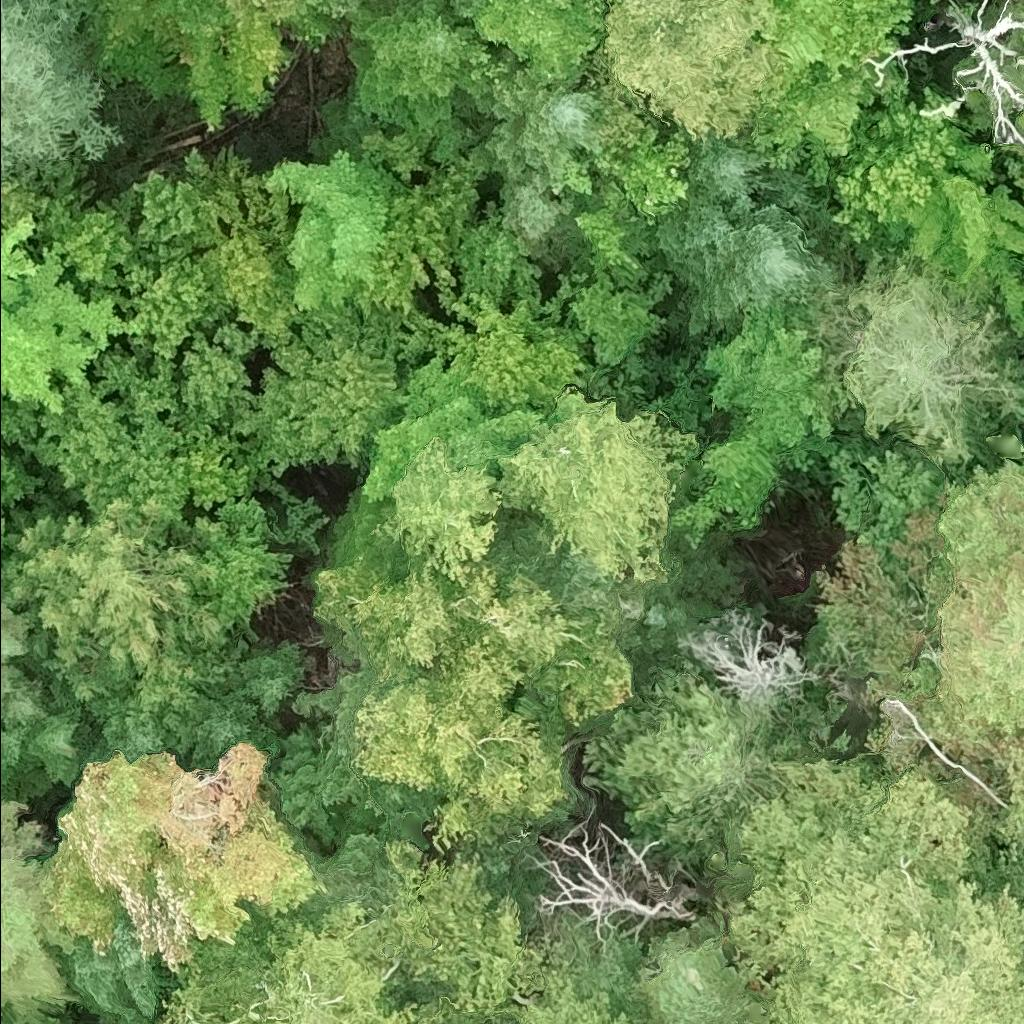crown: (728, 753, 1023, 1023), (317, 561, 585, 858), (51, 744, 324, 977), (818, 458, 1023, 752), (0, 322, 260, 517), (0, 494, 223, 703), (674, 300, 831, 548), (497, 392, 697, 586), (849, 252, 1023, 468), (658, 142, 835, 338), (583, 665, 776, 840), (161, 899, 427, 1023), (59, 175, 231, 353), (378, 837, 546, 1009), (233, 306, 405, 473), (0, 214, 141, 412), (366, 362, 546, 516), (263, 148, 414, 312), (0, 0, 124, 189), (895, 160, 1023, 342), (89, 0, 269, 127), (606, 0, 767, 137), (537, 820, 699, 945), (429, 309, 589, 432), (898, 0, 1023, 157), (837, 105, 957, 245), (381, 442, 500, 574), (188, 503, 296, 634), (0, 800, 67, 1009), (343, 0, 462, 116), (489, 75, 605, 193), (680, 601, 817, 699), (832, 446, 954, 553), (776, 0, 918, 90), (475, 1, 607, 85), (638, 937, 758, 1023), (493, 968, 635, 1023), (185, 697, 279, 775), (236, 640, 308, 725), (23, 709, 95, 784), (0, 462, 42, 540), (0, 681, 49, 739), (0, 598, 23, 699), (1003, 747, 1023, 856), (0, 722, 24, 796), (310, 0, 371, 11), (210, 0, 259, 12), (426, 1020, 451, 1023), (1021, 119, 1023, 130)
